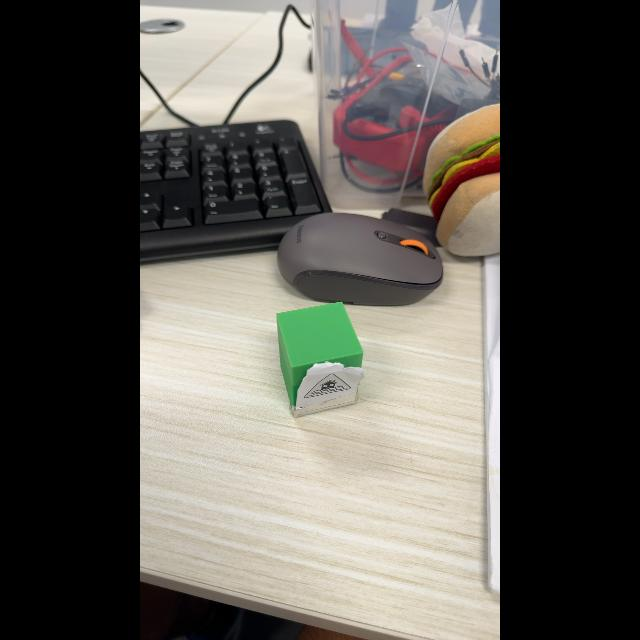Tsunami: (304, 375, 350, 398)
